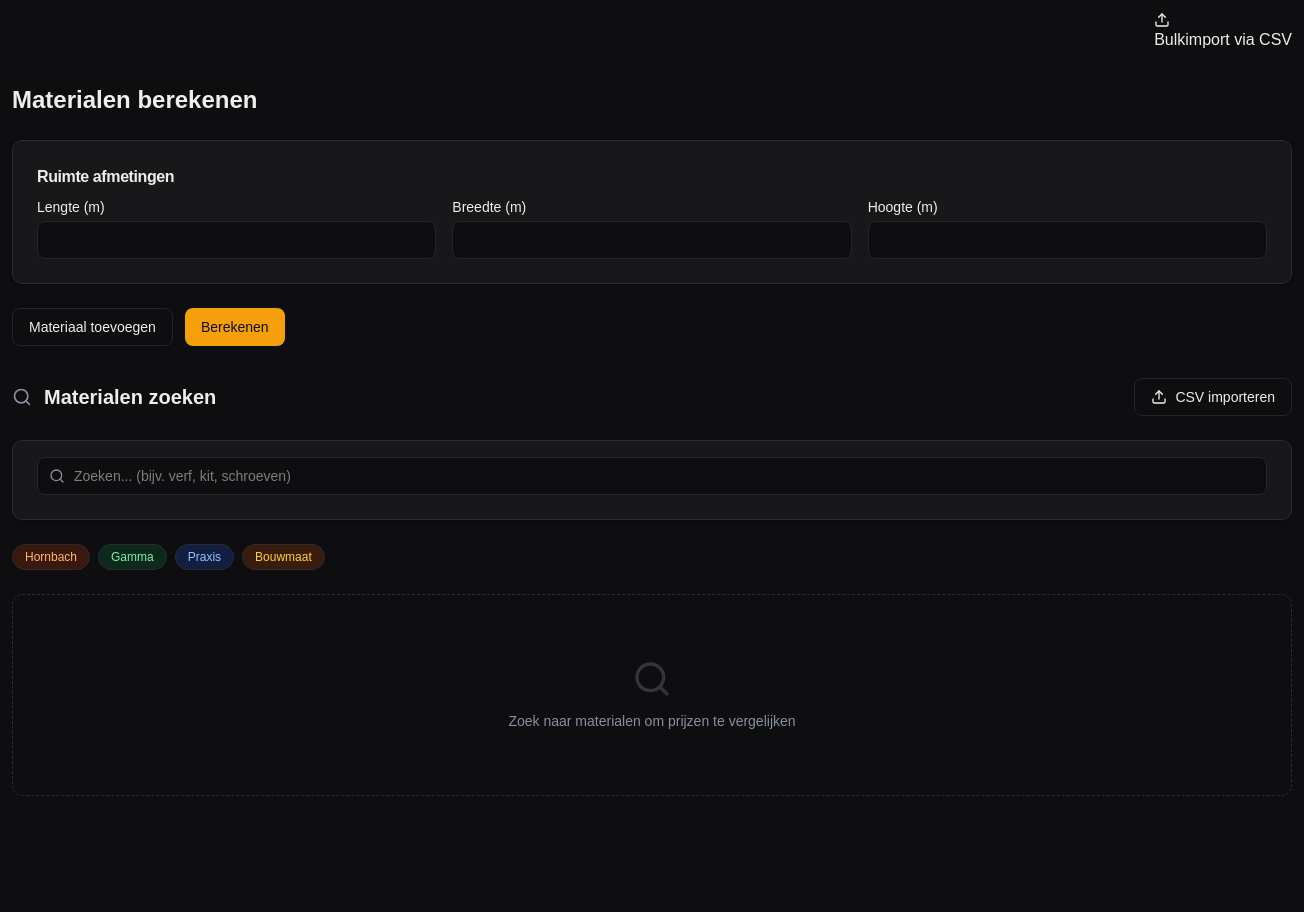
Test: MaterialsSearchPage › shows empty state when no results are returned
In the field with test id "materials-search-input": [652, 476] box top-left (37, 457), bottom-right (1267, 495), type "onbekendproduct"
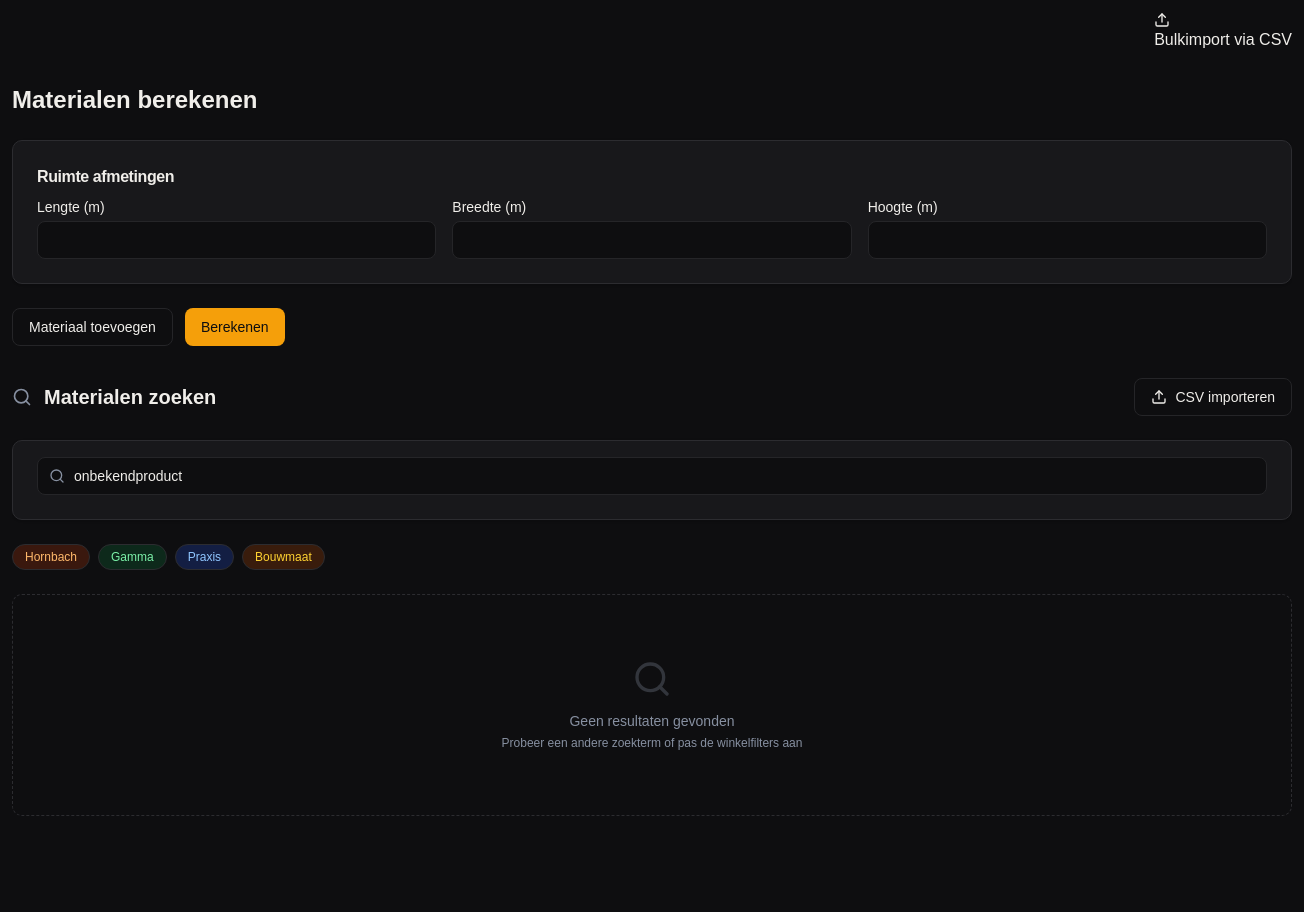
Expected: the element with test id "materials-empty-state" is shown, top-left (12, 594), bottom-right (1292, 816)
